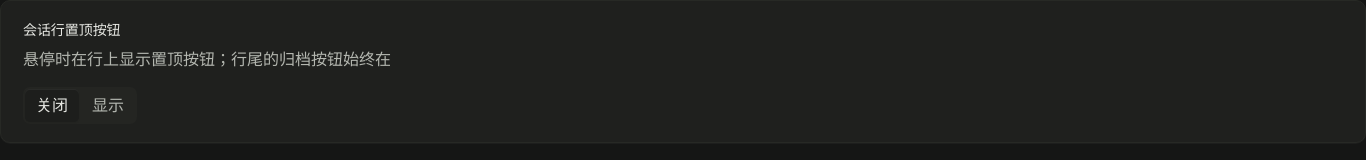
remembers the explicitly disabled choice made in Settings
Later steps or results of the test are not shown.
Click the button "显示" at (108, 106), box [81,89,135,122]
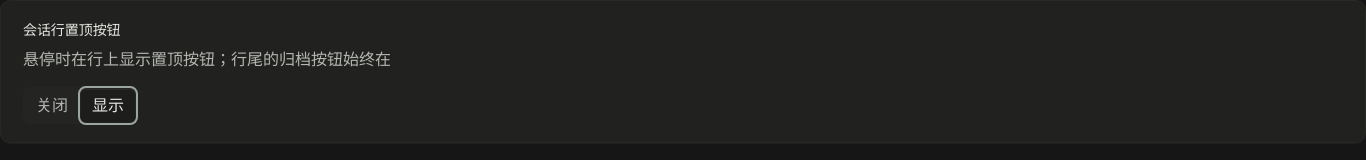
Now the button "显示" is pressed, box [81,89,135,122]
